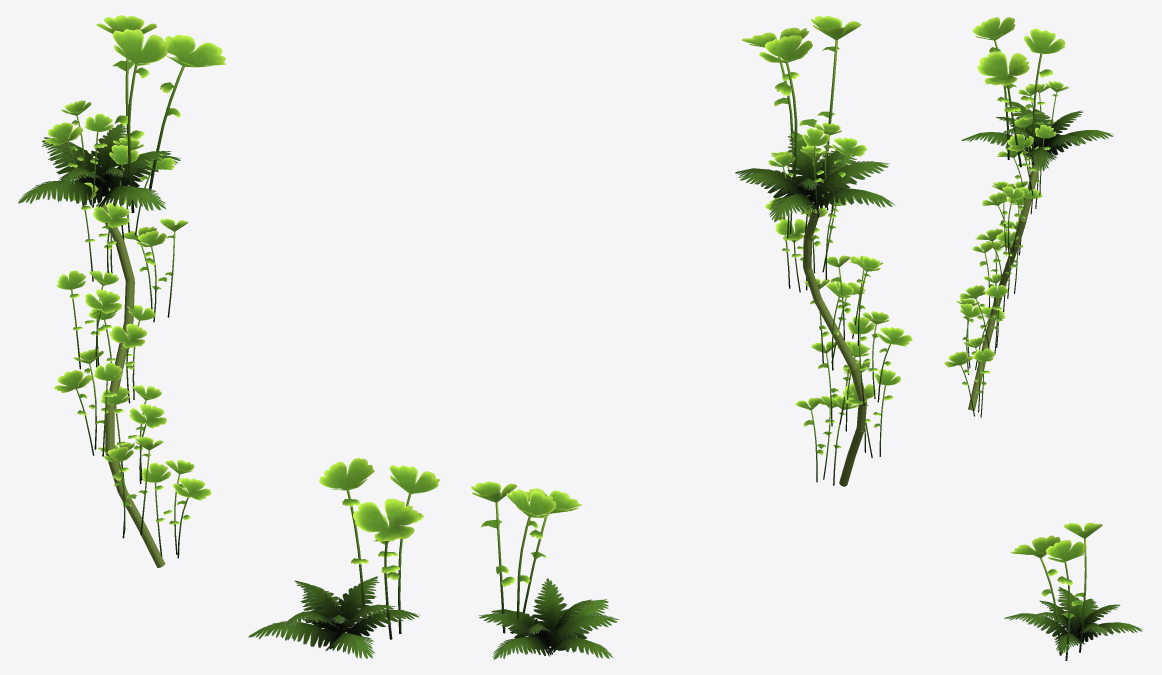
The model's file is Power_Cabinet_Greenery.glb.
3 views of the same model, side by side, from view 1: azimuth 30°, elevation 25°; view 2: azimuth 150°, elevation 25°; view 3: azimuth 270°, elevation 25° (orthographic). The views are drawn at different scales.
Visible parts, largest first — view 1: Patch_00, Patch_01; view 2: Patch_00, Patch_01; view 3: Patch_00, Patch_01.
Part boxes in pixels (<box>): Patch_00: <box>18,15,226,567</box>; Patch_01: <box>248,458,439,658</box>; Patch_00: <box>735,16,912,486</box>; Patch_01: <box>471,481,619,659</box>; Patch_00: <box>944,17,1113,417</box>; Patch_01: <box>1004,523,1143,660</box>.
Bounding box in the file's own units: 1.55 × 2.36 × 0.8312.
3 materials, 2 textured.
